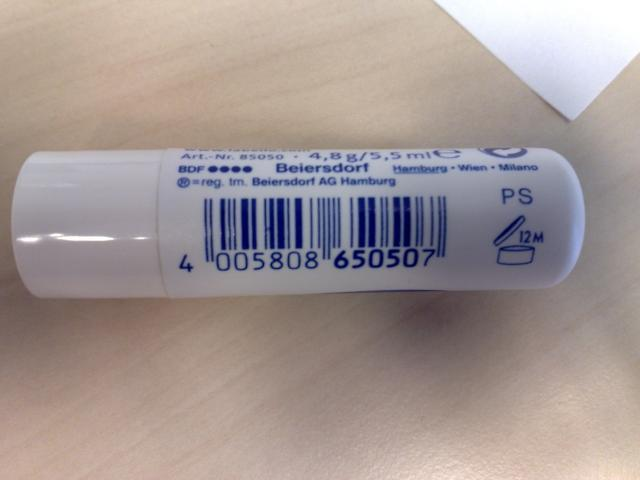Barcode: (170, 191, 456, 282)
